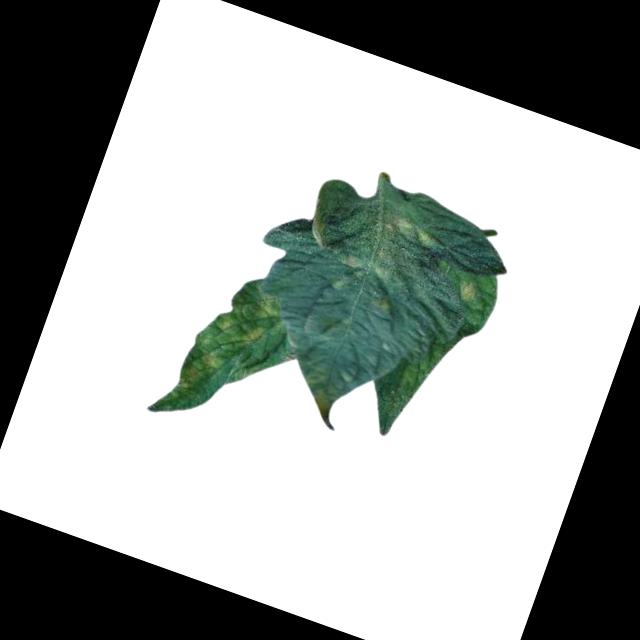Leaf_Mold: (167, 270, 293, 434), (334, 197, 444, 297), (450, 273, 482, 307)
